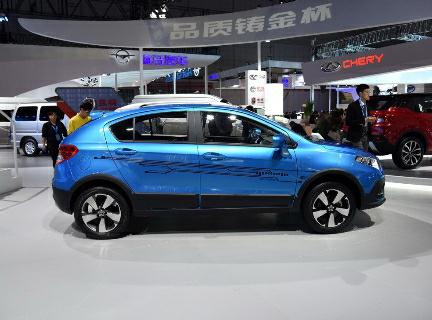??-H220: (47, 99, 387, 240)
